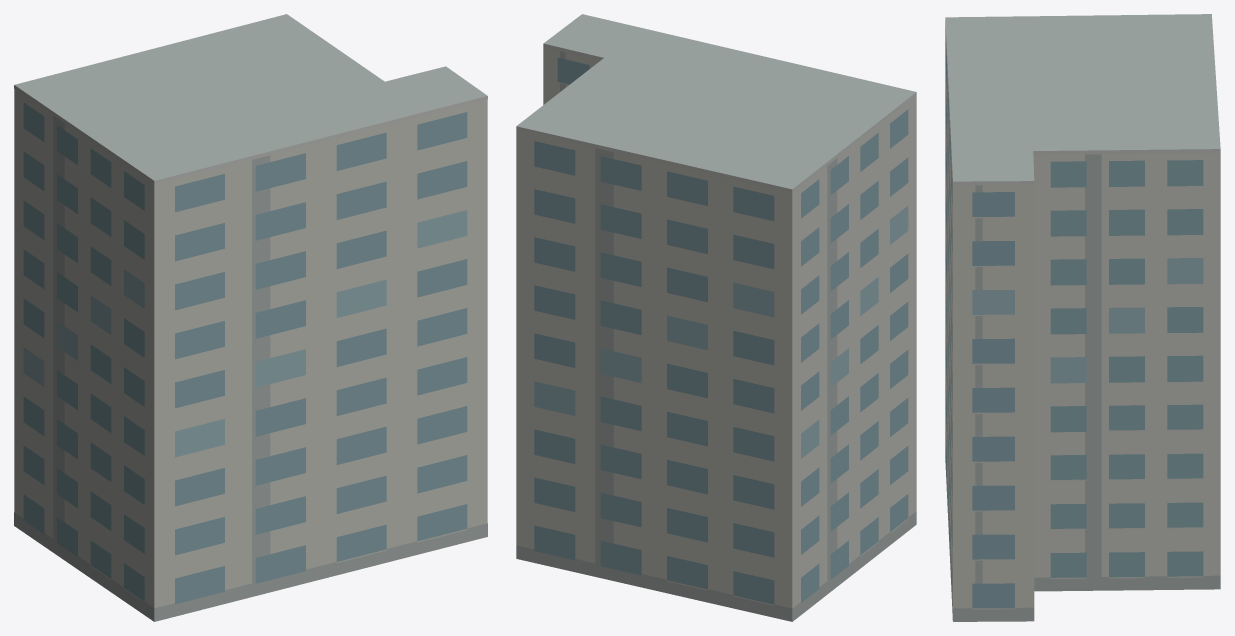
The model's file is survey-upis-32852598.glb.
3 views of the same model, side by side, from view 1: azimuth 30°, elevation 25°; view 2: azimuth 150°, elevation 25°; view 3: azimuth 270°, elevation 25° (orthographic).
Parts seen in each view (by area): view 1: survey-upis-32852598.tmp; view 2: survey-upis-32852598.tmp; view 3: survey-upis-32852598.tmp.
Boxes of the visible parts, x1,y1,x2,y2 form: survey-upis-32852598.tmp: (14,14,487,621); survey-upis-32852598.tmp: (516,14,916,621); survey-upis-32852598.tmp: (945,14,1220,621).
Bounding box in the file's own units: 22.41 × 27.45 × 15.56.
